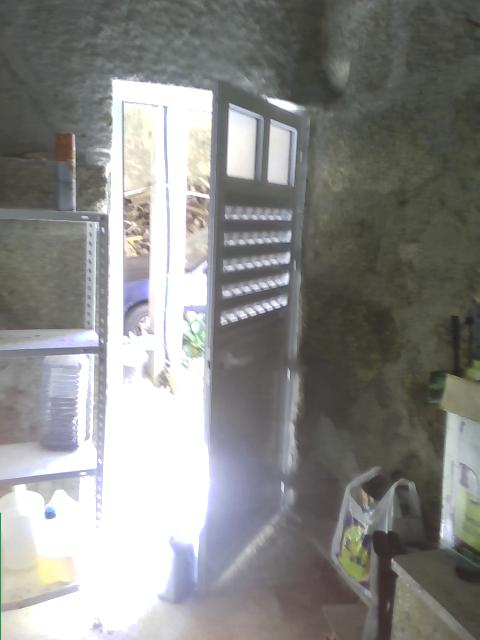semi_door: (102, 73, 312, 597)
